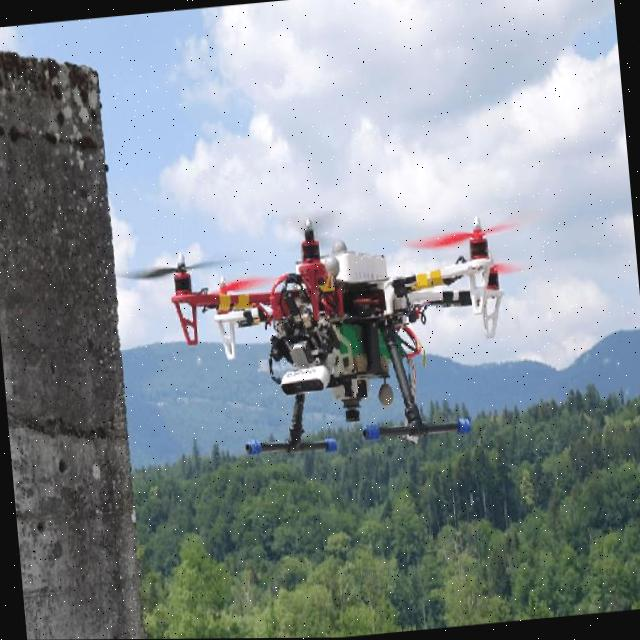drone: (118, 194, 548, 420)
